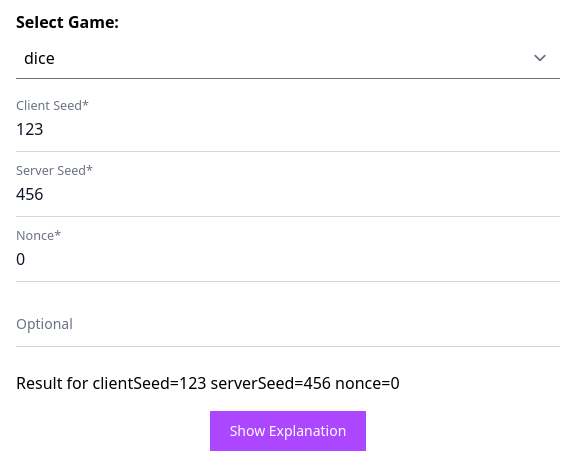
Test: VerifierForm Component › game change resets input fields
Replace the text in the field labelled "Client Seed*" with "aaa" at [288, 130], box [16,107,560,152]
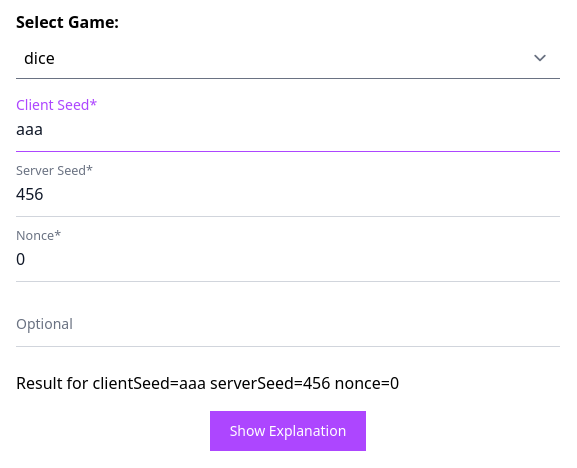
Replace the text in the field labelled "Server Seed*" with "bbb" at [288, 194], box [16,172,560,217]
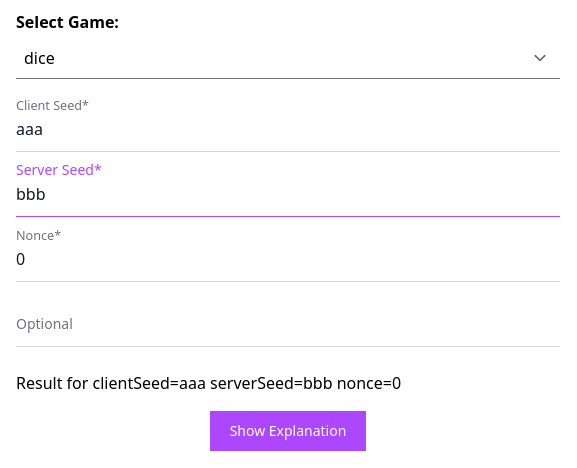
Replace the text in the number field labelled "Nonce*" with "123" at [288, 260], box [16,237,560,282]
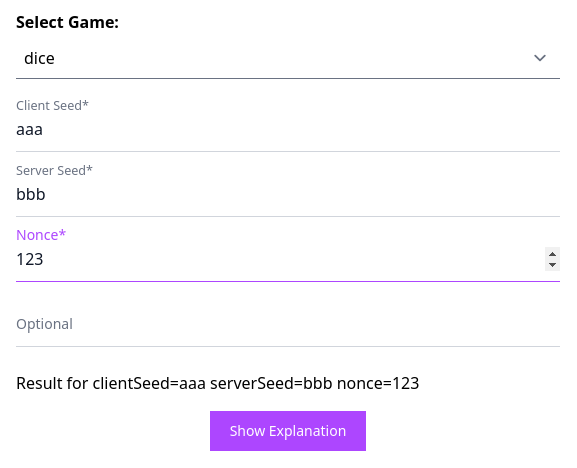
Type "yes" into the field labelled "Optional" at [288, 324], box [16,302,560,347]
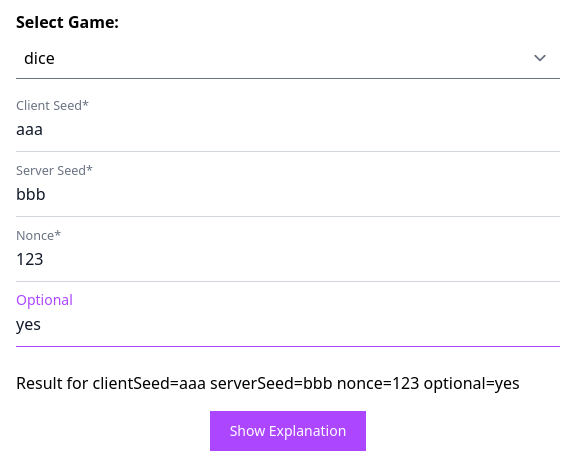
Select "roulette" in the dropdown labelled "Select Game:" at [288, 58], box [16,38,560,79]
Wait 350 ms
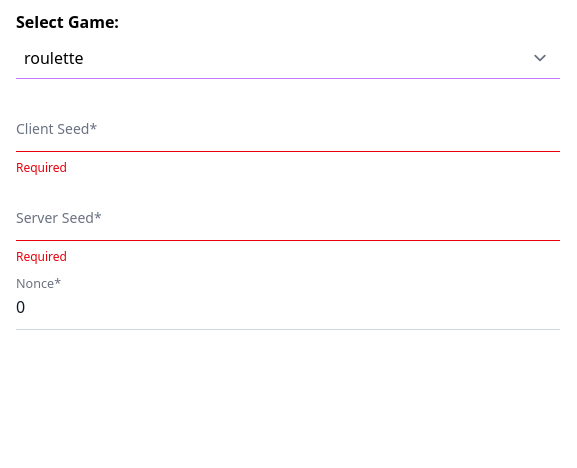
expect the number field labelled "Nonce*" holds "0": met, box [16,285,560,330]
expect the label labelled "Optional" is gone: met
